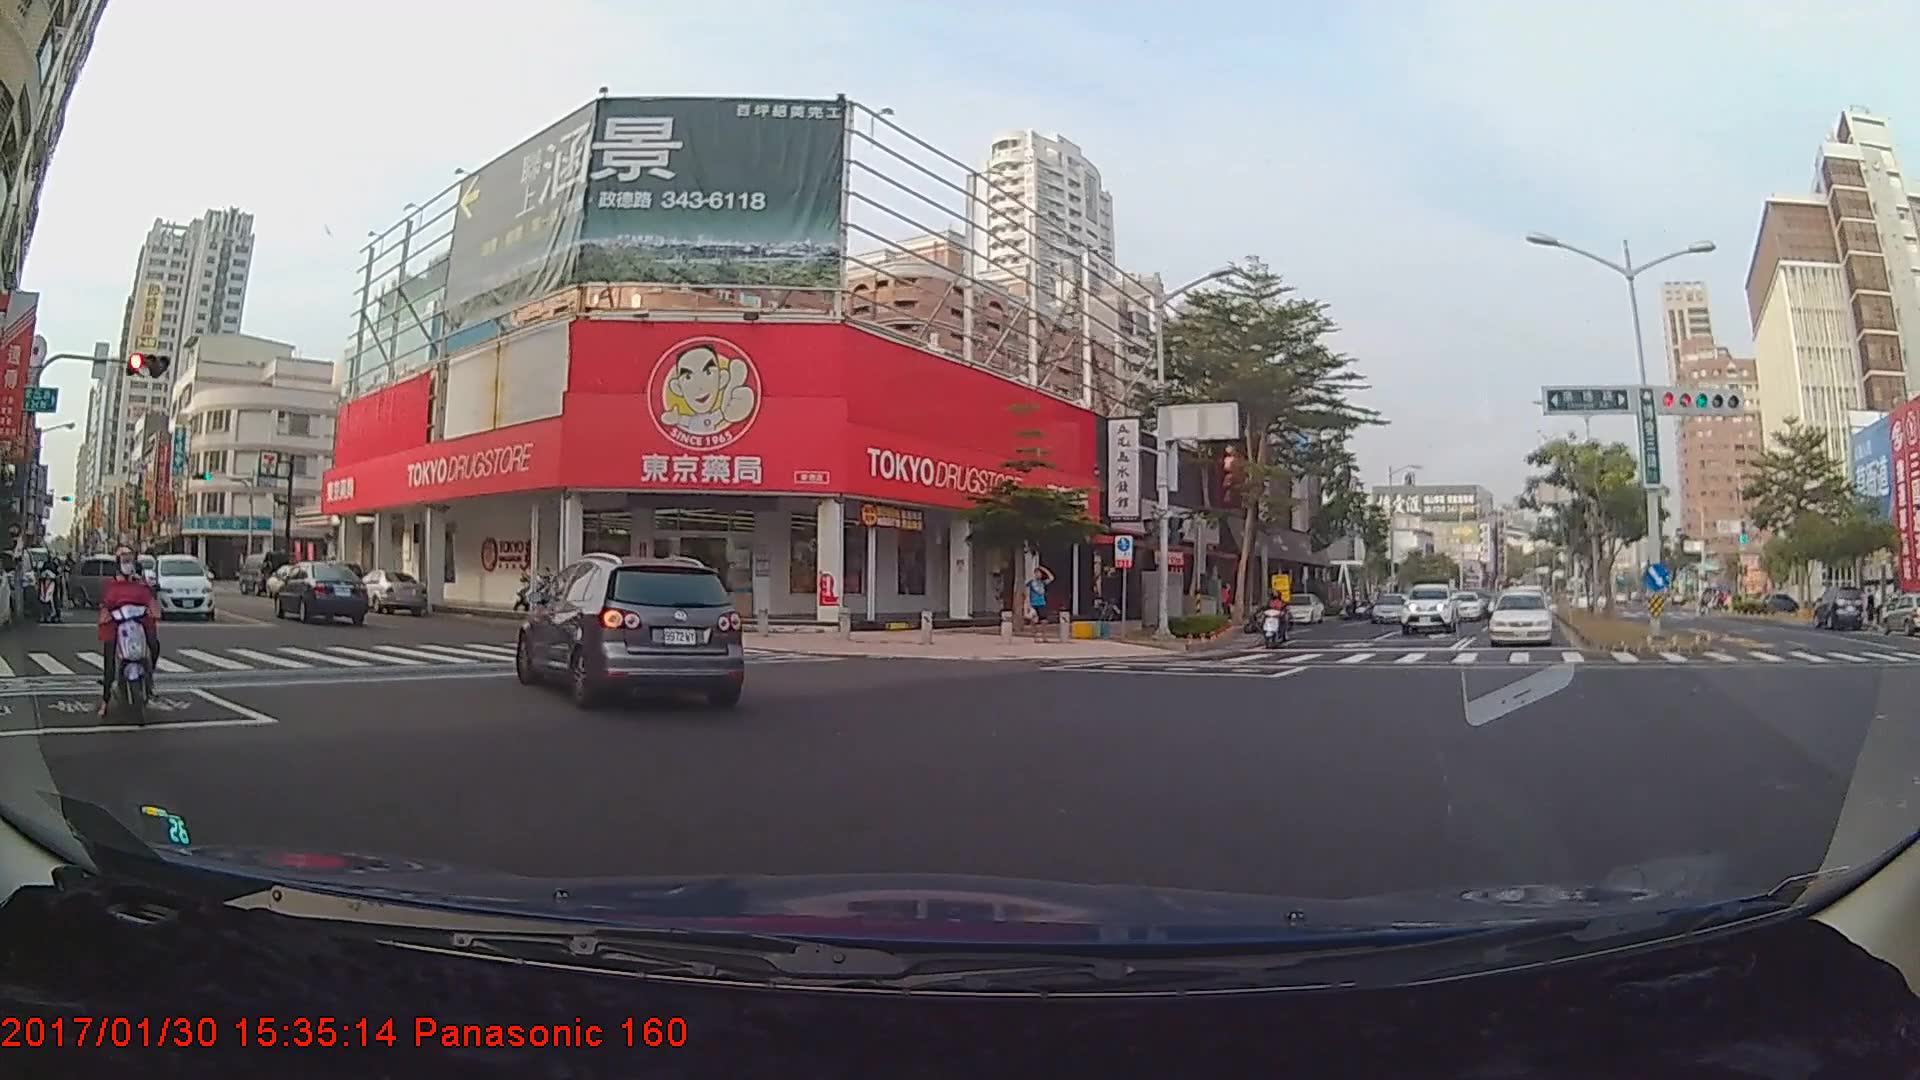pedestrian: (1026, 565, 1055, 643)
rider: (84, 545, 165, 754), (1258, 588, 1296, 652), (36, 543, 66, 623)
vehicle: (521, 554, 742, 708), (276, 559, 365, 625), (64, 555, 158, 608), (145, 556, 214, 623), (342, 566, 427, 616), (1486, 592, 1554, 647), (1399, 583, 1459, 635), (1273, 593, 1324, 624), (1369, 590, 1407, 623), (1811, 588, 1840, 630), (1447, 590, 1482, 622)
